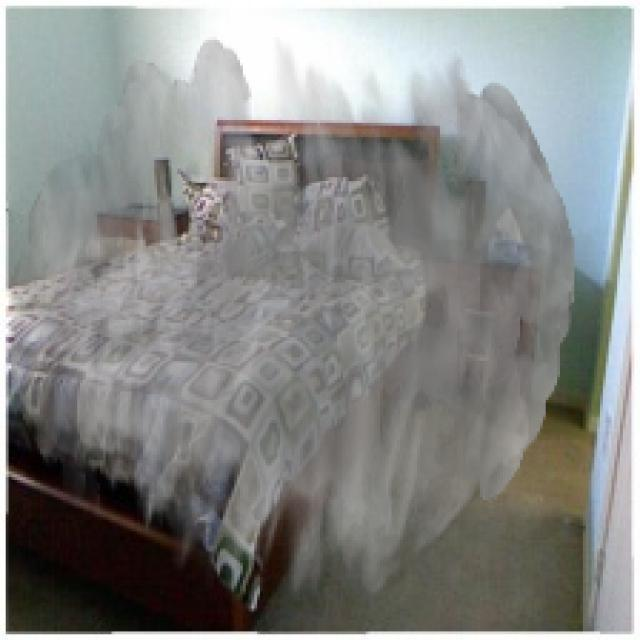Smoke: (8, 37, 574, 606)
